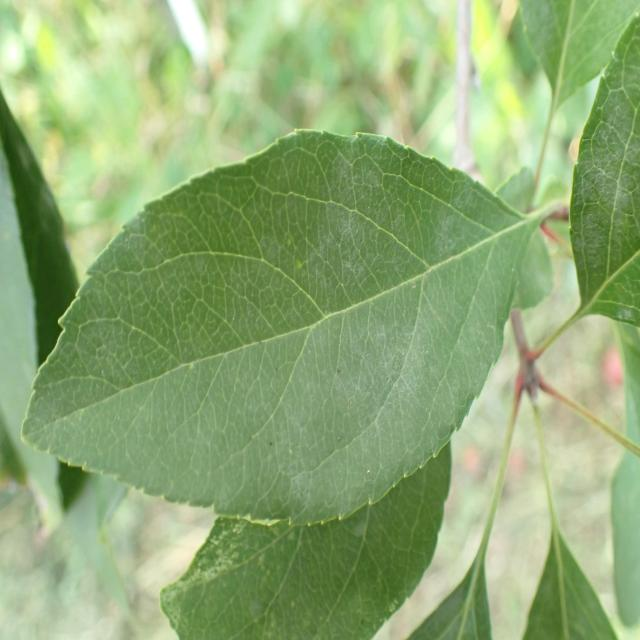Powdery_mildew: (20, 132, 533, 507), (554, 11, 640, 375)
